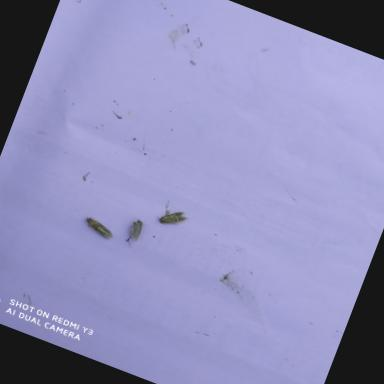pbw: (153, 197, 192, 233), (78, 212, 118, 242), (120, 214, 149, 250)
